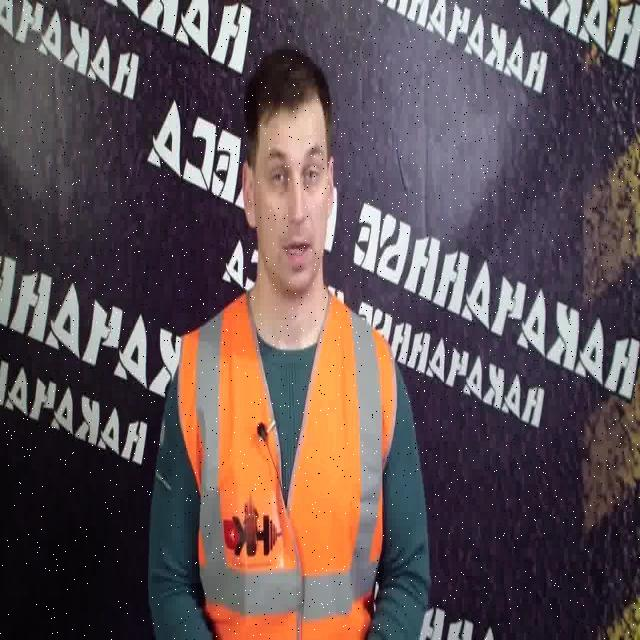Person: (145, 45, 432, 640)
Vest: (183, 311, 399, 631)
